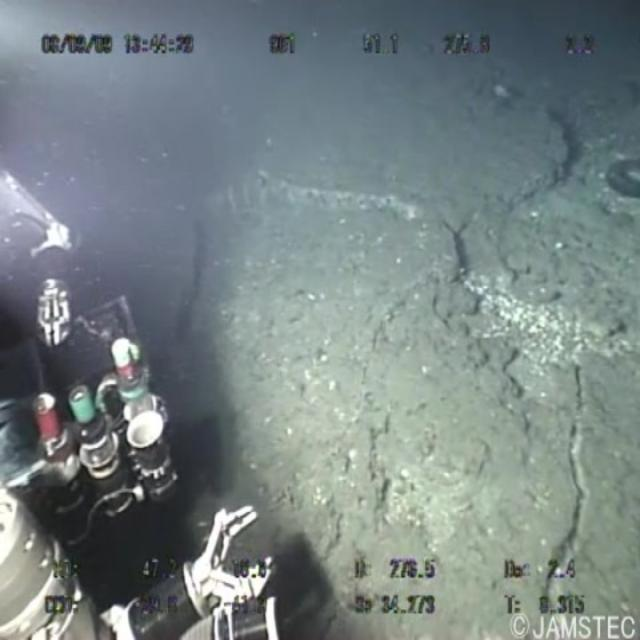Rubber: (593, 146, 640, 225)
